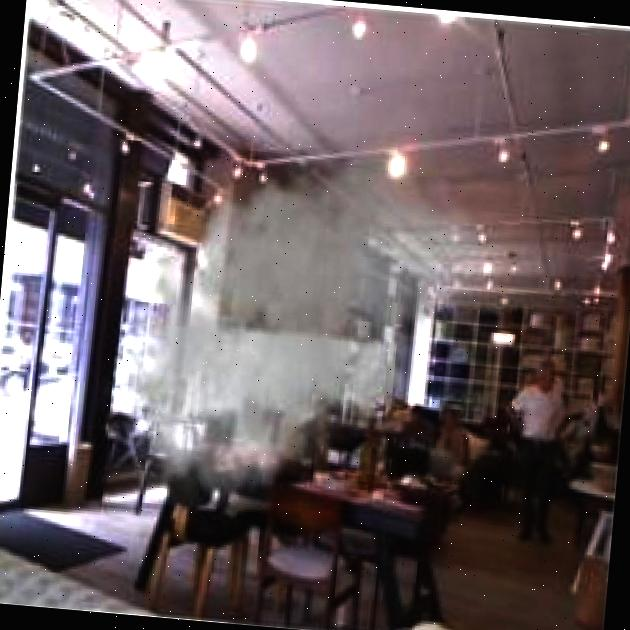smoke: (108, 117, 492, 530)
